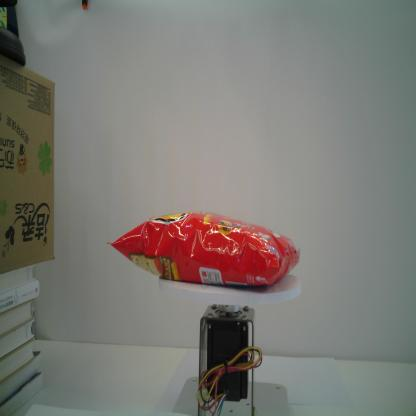Puffed Food: (104, 210, 302, 290)
